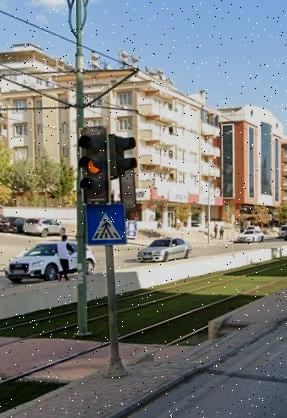yellowlight: (77, 132, 109, 205)
